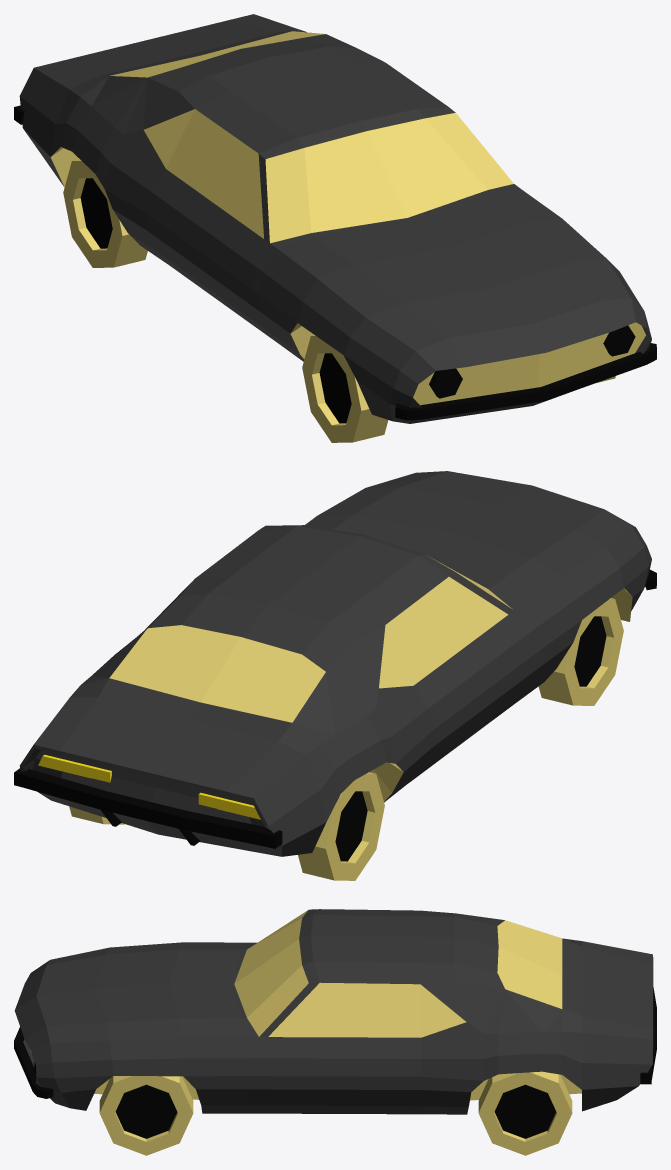
The model's file is vehicle.gltf.
3 renders of one model, top to bottom at view 1: azimuth 30°, elevation 25°; view 2: azimuth 150°, elevation 25°; view 3: azimuth 270°, elevation 25°, orthographic. The views are drawn at different scales.
Visible parts, largest first — view 1: Body_0; view 2: Body_0; view 3: Body_0.
Boxes of the visible parts, left/top/right/bottom form: Body_0: left=14, top=14, right=656, bottom=442; Body_0: left=14, top=471, right=656, bottom=880; Body_0: left=14, top=909, right=656, bottom=1155.
Bounding box in the file's own units: 1.31 × 0.9189 × 3.16.
